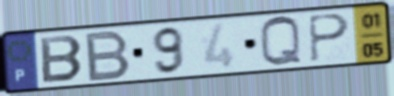4: (201, 20, 239, 72)
9: (150, 24, 187, 76)
B: (84, 28, 134, 84), (38, 34, 86, 85)
P: (306, 12, 353, 65)
Q: (257, 14, 305, 69)
